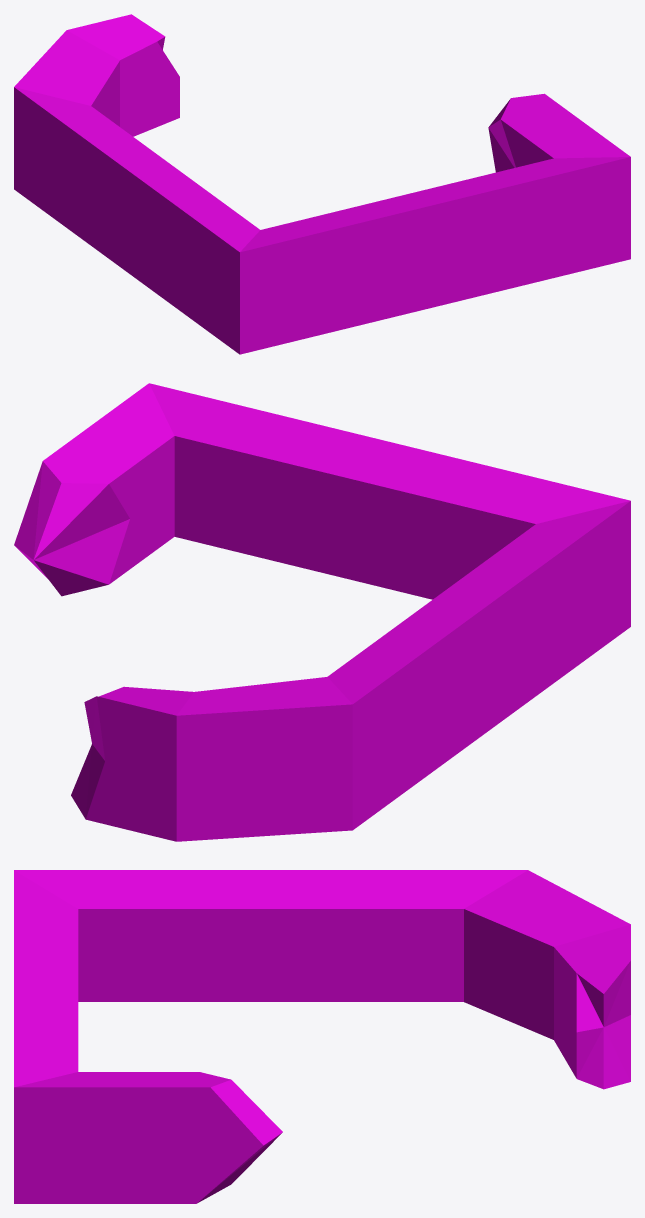
Rendered from Archway_Destroyed.fbx.
3 renders of one model, top to bottom at view 1: azimuth 30°, elevation 25°; view 2: azimuth 150°, elevation 25°; view 3: azimuth 270°, elevation 25°, orthographic. The views are drawn at different scales.
Visible parts, largest first — view 1: Archway_Destroyed; view 2: Archway_Destroyed; view 3: Archway_Destroyed.
Part boxes in pixels (bbox=[...]): Archway_Destroyed: bbox=[14, 14, 630, 354]; Archway_Destroyed: bbox=[14, 383, 630, 841]; Archway_Destroyed: bbox=[14, 870, 630, 1203].
Size of the model in its own units: 80000 by 20000 by 96000.
